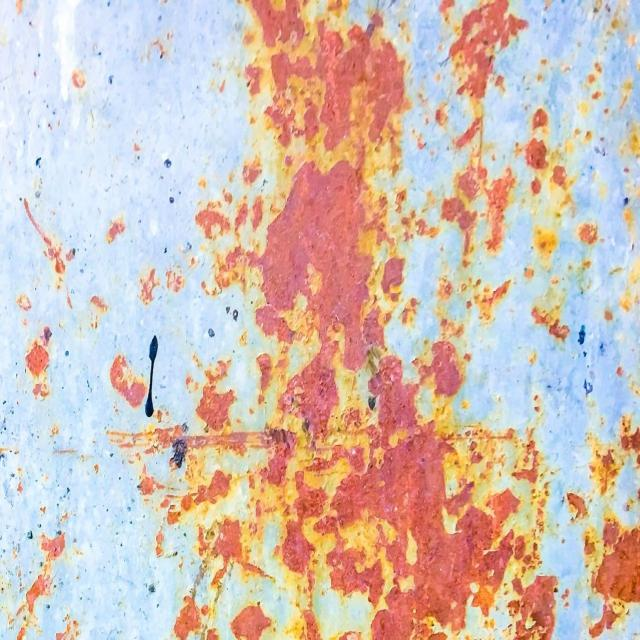Uniform Corrosion: (111, 141, 556, 639), (413, 0, 571, 418), (246, 0, 405, 190), (565, 414, 639, 637), (0, 531, 83, 639), (195, 158, 268, 250), (21, 198, 79, 309), (137, 464, 182, 557), (415, 340, 462, 396), (110, 354, 147, 406), (531, 306, 569, 340), (139, 268, 163, 305), (25, 340, 49, 376), (52, 611, 80, 639), (89, 294, 109, 329), (163, 270, 185, 292), (576, 222, 597, 245), (106, 219, 125, 240)
